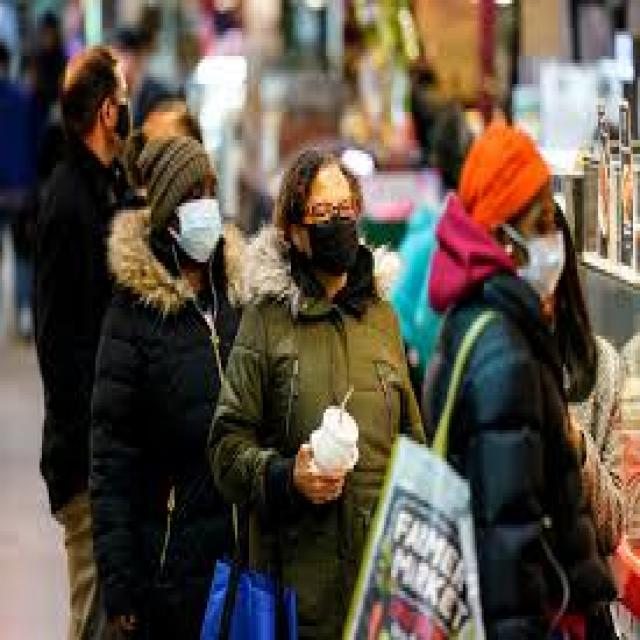Jacket: (225, 282, 434, 604), (425, 288, 595, 640), (92, 259, 240, 640), (26, 138, 138, 500)
